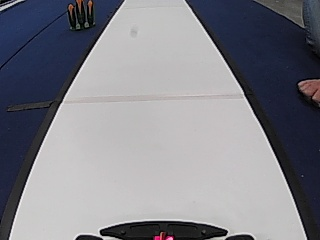corn: (65, 0, 96, 30)
